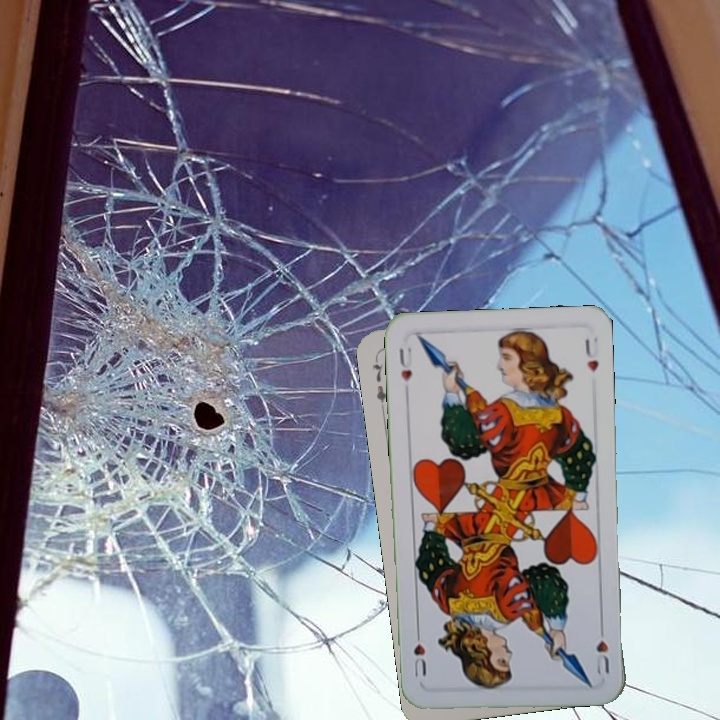E7: (369, 354, 389, 413)
HU: (590, 620, 612, 677), (395, 343, 415, 384)
